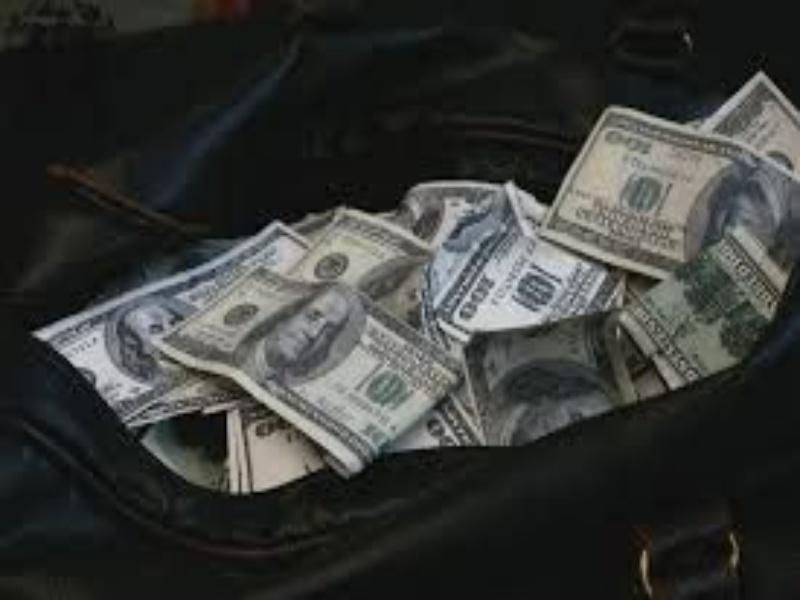cash: (34, 70, 800, 493)
